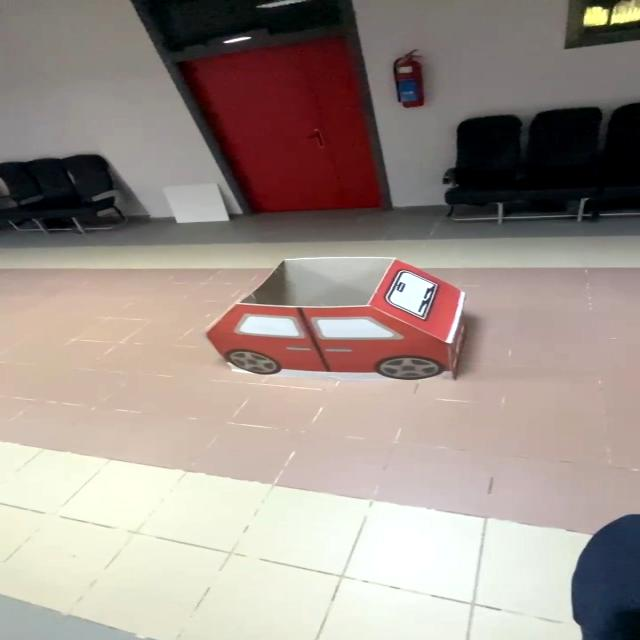red_car: (182, 244, 491, 407)
